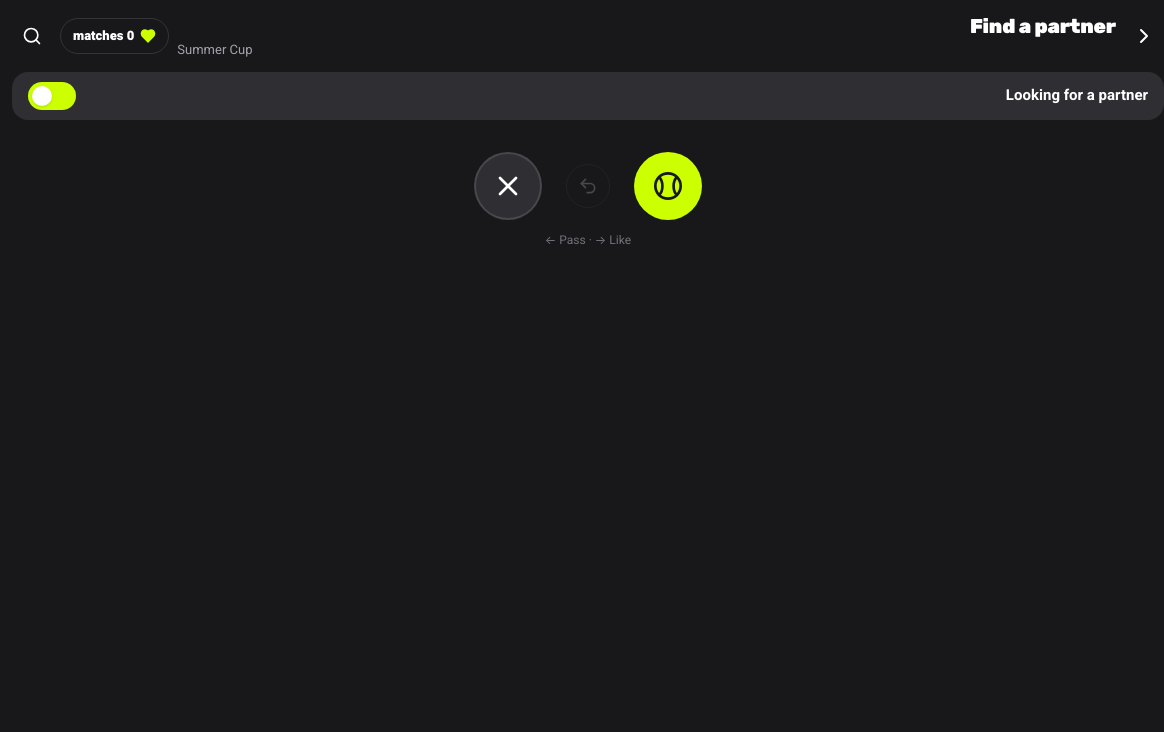
Scenario: PartnerDeck — a match › already registered together since the match loaded: says so instead
Step 1. Click the button with test id "partner-matches-button" → x=115, y=36, box [60,18,169,54]
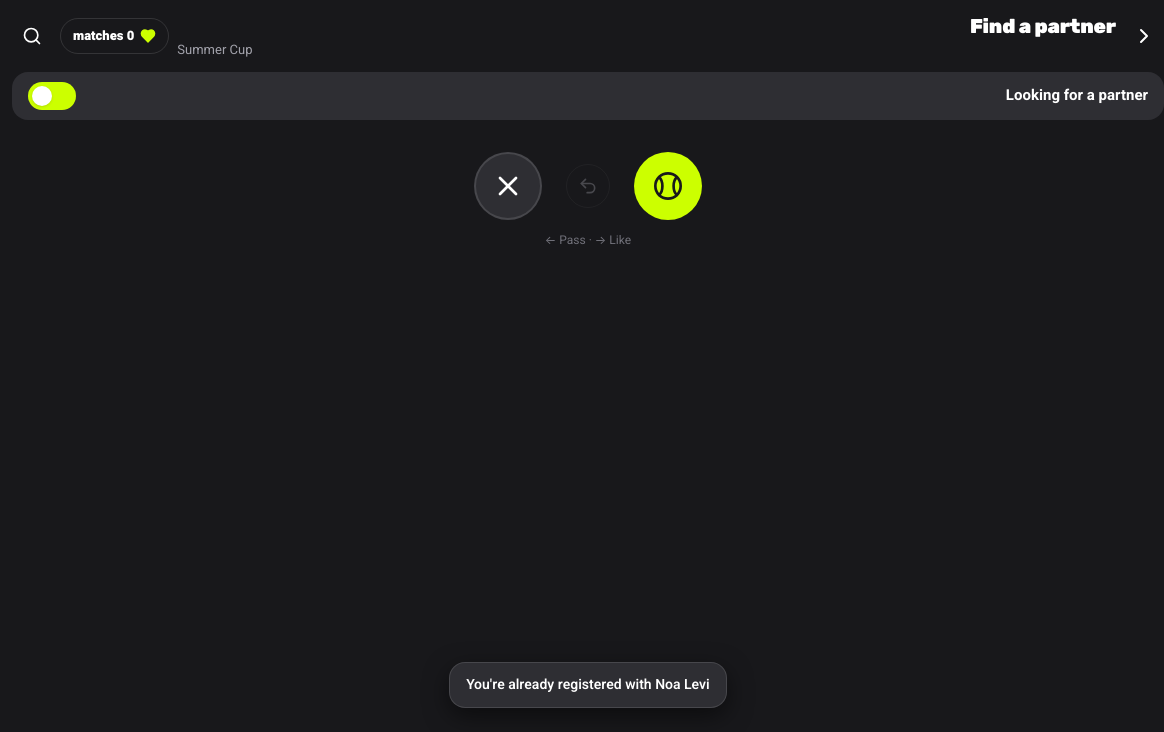
Check: the text with test id "partner-toast" reads "You're already registered with Noa Levi", box [466,674,710,695]
